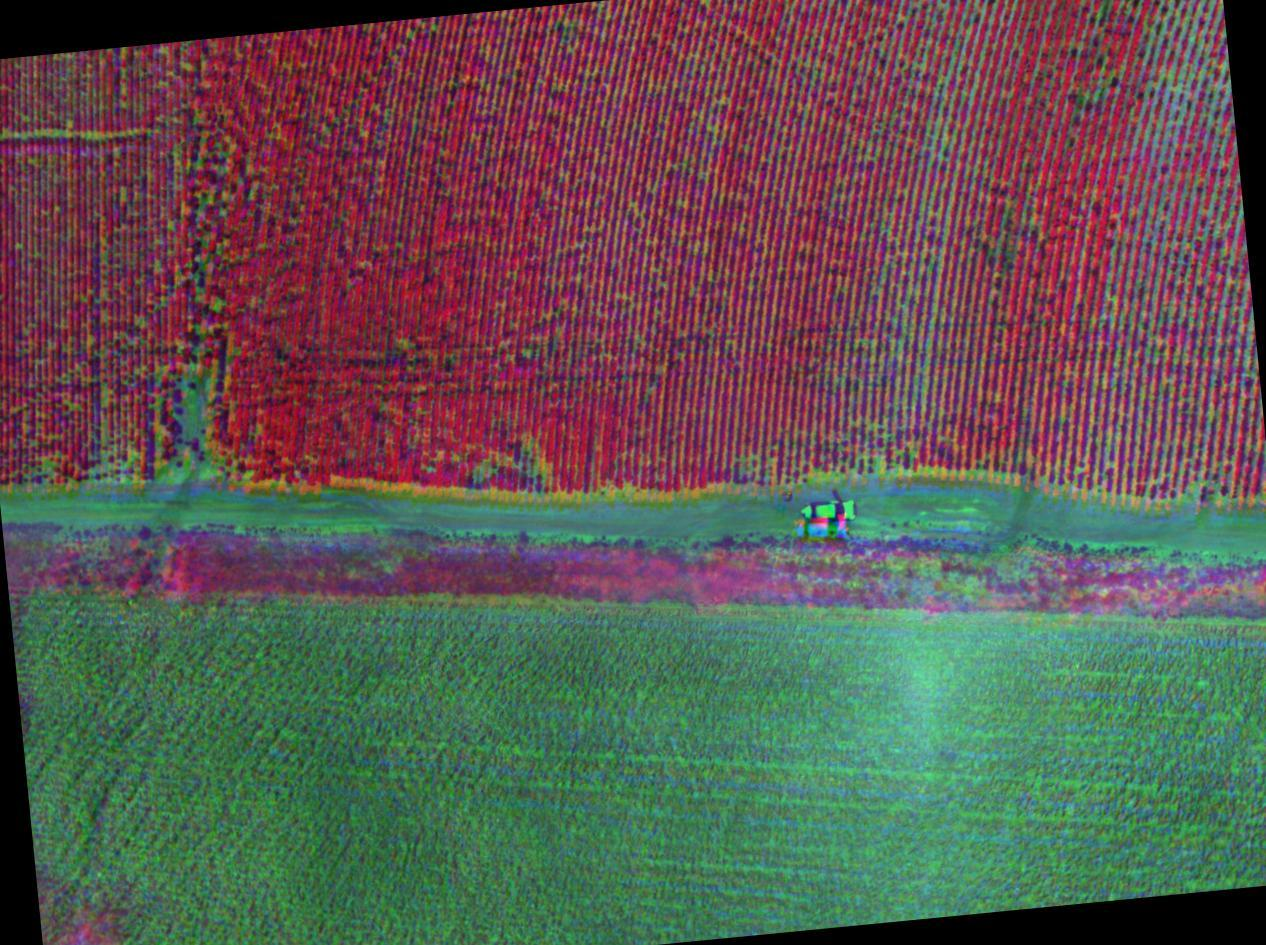dc: (158, 435, 223, 498), (811, 430, 898, 477), (157, 379, 222, 430), (1132, 45, 1197, 95)
